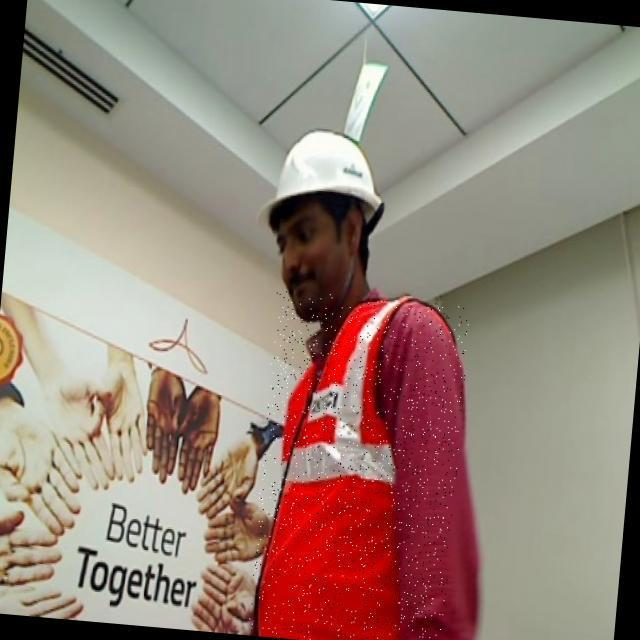helmet: (257, 123, 393, 249)
vest: (246, 289, 471, 640)
